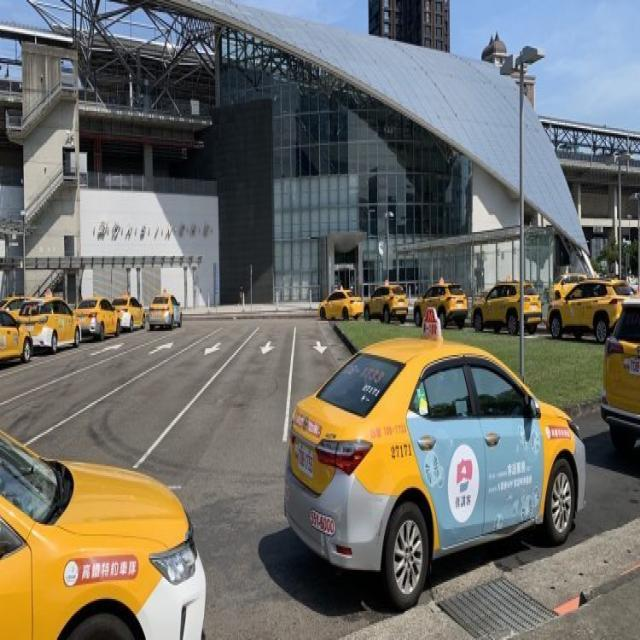Door: (0, 431, 205, 639), (601, 298, 640, 451)
Taxi: (285, 325, 585, 608)
